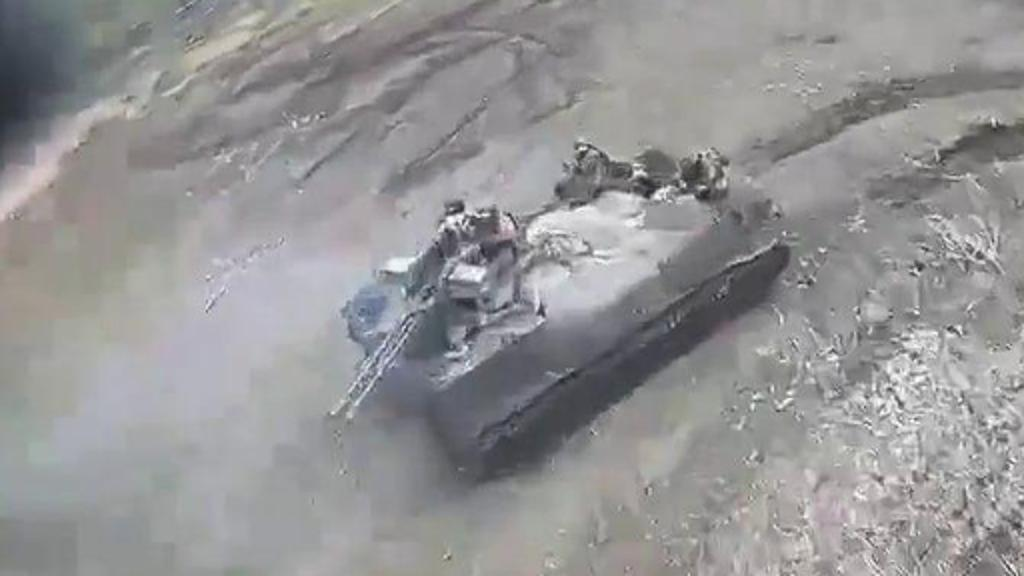APC-IFV: (318, 124, 798, 490)
